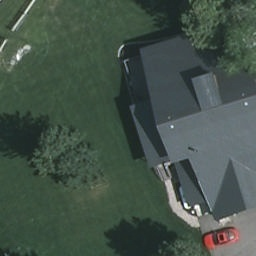car: (201, 227, 241, 250)
